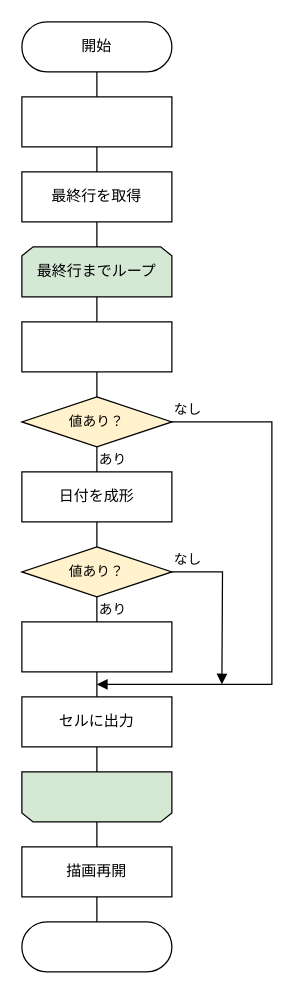
Some shapes in this 304 by 994 pixel diagram are drawn without their labels. The shapes that lost their labels are listed below. From the top down, each one's box as (x1, y1, x2, y2) in pixels, then its label:
(21, 96, 172, 147): 描画停止
(21, 321, 172, 372): セルから取得
(21, 621, 172, 672): 通信速度を成形
(21, 921, 172, 972): 終了
